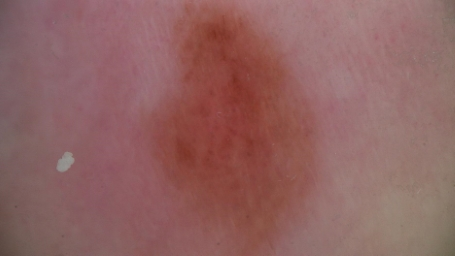melanoma: (152, 1, 316, 256)
